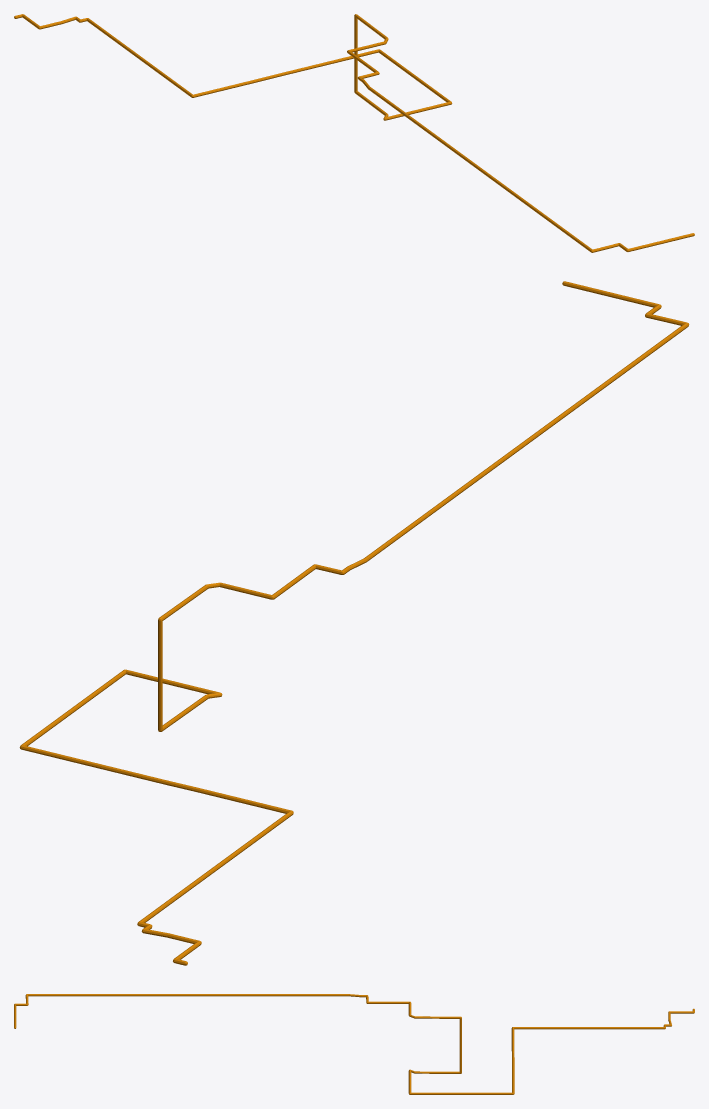
The picture shows the model from 3 angles, top to bottom: view 1: azimuth 30°, elevation 25°; view 2: azimuth 150°, elevation 25°; view 3: azimuth 270°, elevation 25°; orthographic projection. The views are drawn at different scales.
Size of the model in its own units: 1655 by 520 by 5605.
